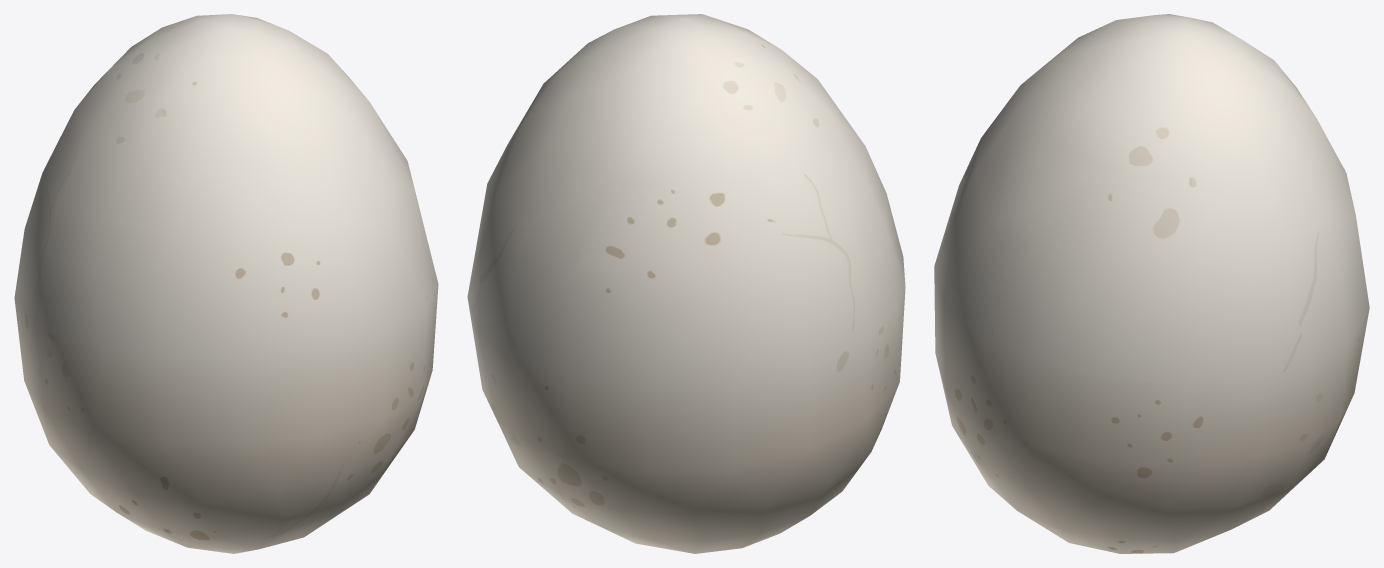
File: EggWholeAnim01.fbx
3 renders of one model, left to right at view 1: azimuth 30°, elevation 25°; view 2: azimuth 150°, elevation 25°; view 3: azimuth 270°, elevation 25°, orthographic. The views are drawn at different scales.
Visible parts, largest first — view 1: EggWhole_model; view 2: EggWhole_model; view 3: EggWhole_model.
Part boxes in pixels (x1,y1,x2,y2): EggWhole_model: (14, 14, 438, 553); EggWhole_model: (467, 14, 905, 553); EggWhole_model: (934, 14, 1369, 553).
Size of the model in its own units: 0.1188 by 0.1559 by 0.1188.
